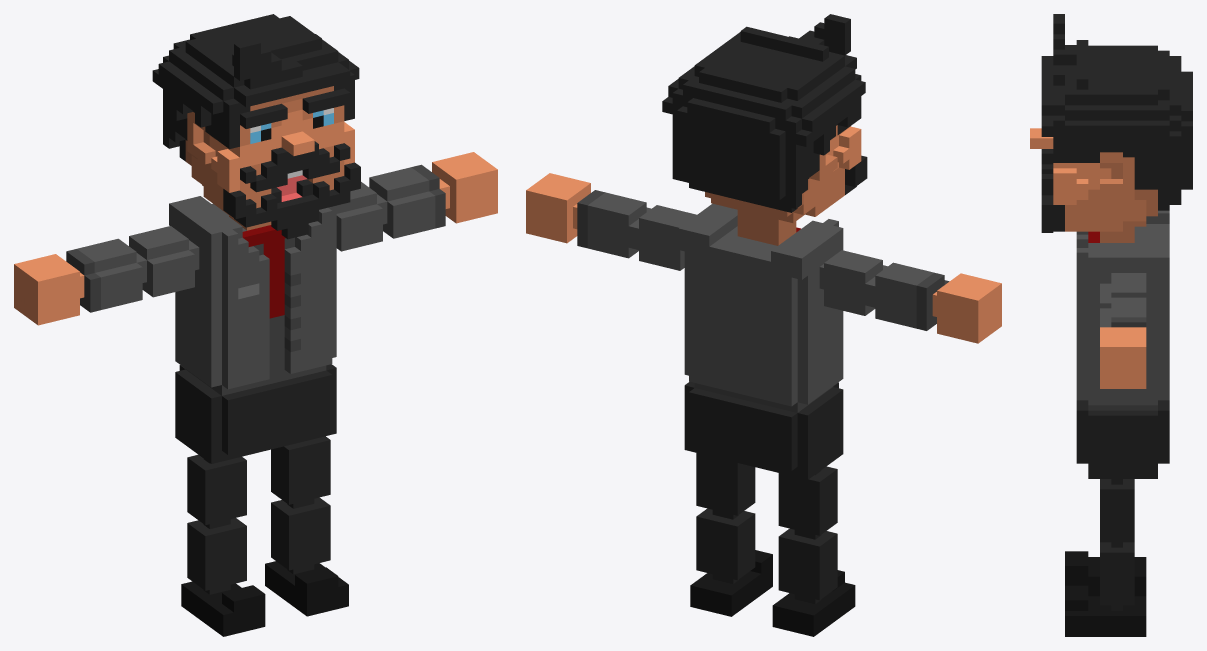
File: MainCharacter.obj
3 views of the same model, side by side, from view 1: azimuth 30°, elevation 25°; view 2: azimuth 150°, elevation 25°; view 3: azimuth 270°, elevation 25° (orthographic). The views are drawn at different scales.
Size of the model in its own units: 4.4 by 5.4 by 1.4.
Materials: 1 (1 with a texture image).
